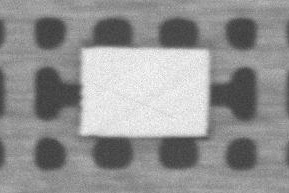DIE_CRACK: (136, 55, 264, 79)
